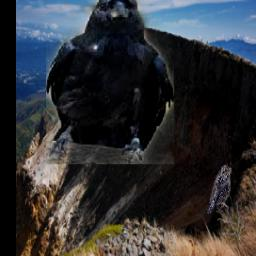Crow: (46, 0, 174, 165)
Sparrow: (207, 165, 232, 216)
